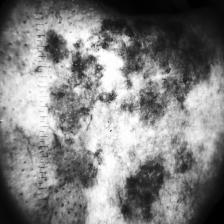Benign Marking or Mole: (41, 17, 213, 133)
